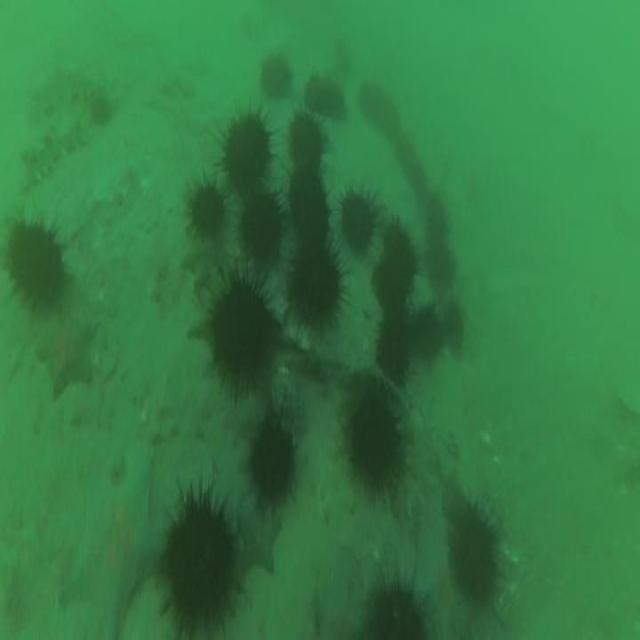echinus: (151, 464, 249, 638), (199, 265, 285, 411), (344, 378, 414, 509), (447, 488, 509, 623), (0, 208, 76, 318), (241, 405, 305, 526), (279, 238, 352, 339), (212, 95, 284, 194), (358, 567, 429, 640), (278, 165, 340, 246), (234, 177, 288, 269), (182, 161, 236, 247), (335, 178, 388, 258), (373, 305, 416, 398), (381, 212, 423, 289), (408, 294, 450, 368), (287, 109, 331, 166), (303, 68, 348, 120), (370, 261, 412, 313), (440, 292, 470, 362), (417, 190, 451, 247), (257, 44, 293, 95), (426, 238, 460, 288)
holothurian: (17, 120, 86, 199), (24, 71, 95, 112)
starfish: (59, 451, 168, 638), (36, 308, 100, 402), (239, 496, 283, 578), (412, 536, 450, 608)
